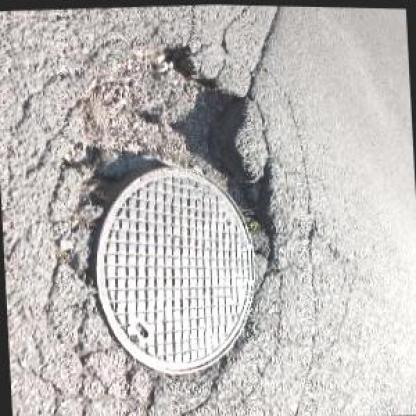pothole: (60, 30, 286, 254)
